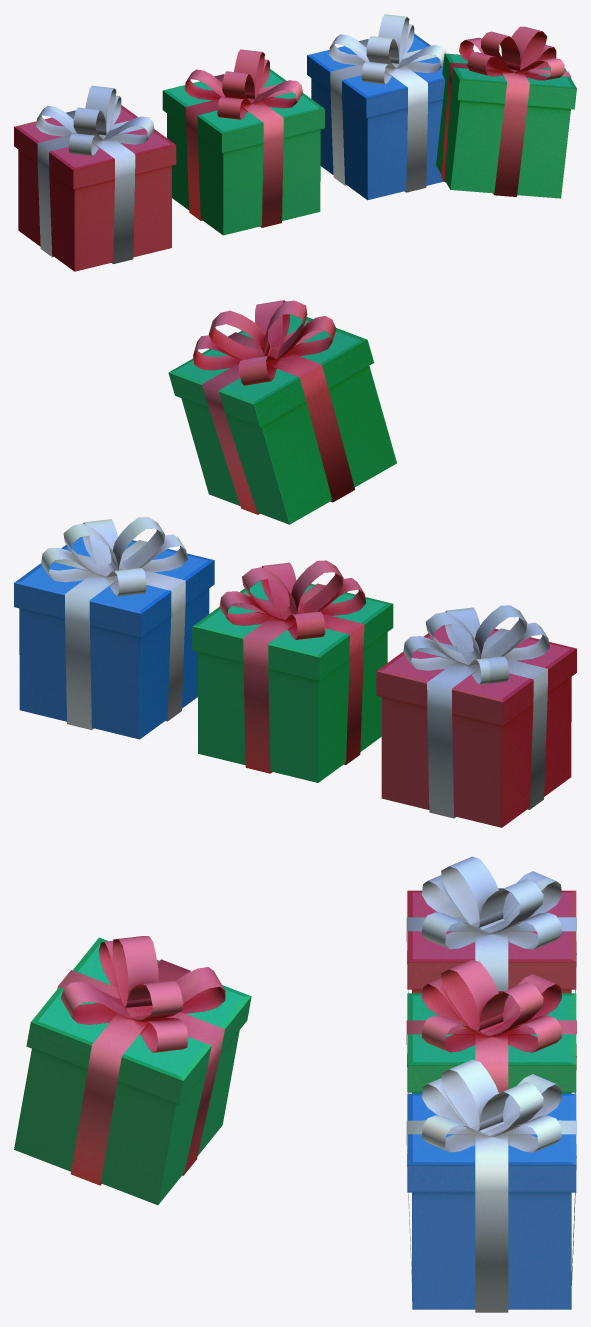
File: christmas_tree.glb
The picture shows the model from 3 angles, top to bottom: view 1: azimuth 30°, elevation 25°; view 2: azimuth 150°, elevation 25°; view 3: azimuth 270°, elevation 25°; orthographic projection. The views are drawn at different scales.
Parts seen in each view (by area): view 1: present_lod011, present_lod012, present_lod010, present_lod013; view 2: present_lod011, present_lod010, present_lod012, present_lod013; view 3: present_lod010, present_lod013, present_lod011, present_lod012.
Boxes of the visible parts, x1,y1,x2,y2 form: present_lod011: (14, 85, 176, 271); present_lod012: (162, 49, 324, 235); present_lod010: (436, 26, 576, 198); present_lod013: (307, 14, 446, 200); present_lod011: (376, 605, 576, 827); present_lod010: (168, 300, 396, 524); present_lod012: (192, 560, 393, 782); present_lod013: (14, 517, 214, 739); present_lod010: (14, 936, 251, 1205); present_lod013: (406, 1059, 576, 1312); present_lod011: (406, 856, 576, 993); present_lod012: (406, 959, 576, 1093).
Size of what is drawn, in the model's own units: 1.66 by 0.8984 by 1.39.
3 materials, 3 textured.
